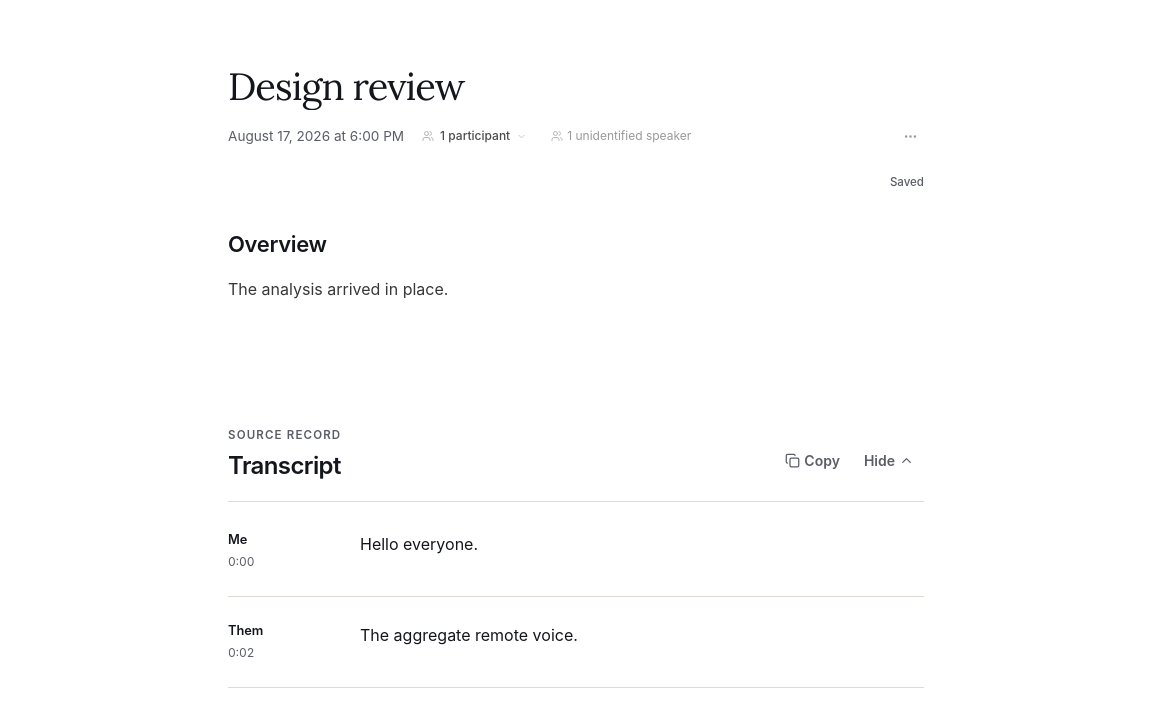
Test: MeetingView progressive reveal › opens identification for Them from the meeting transcript
Check: the button with id "meeting-header-speaker-review-trigger" reads "1 unidentified speaker", box [545,126,697,146]
Step 1. Click the text "Them" → point(246, 630), box [228,623,263,638]
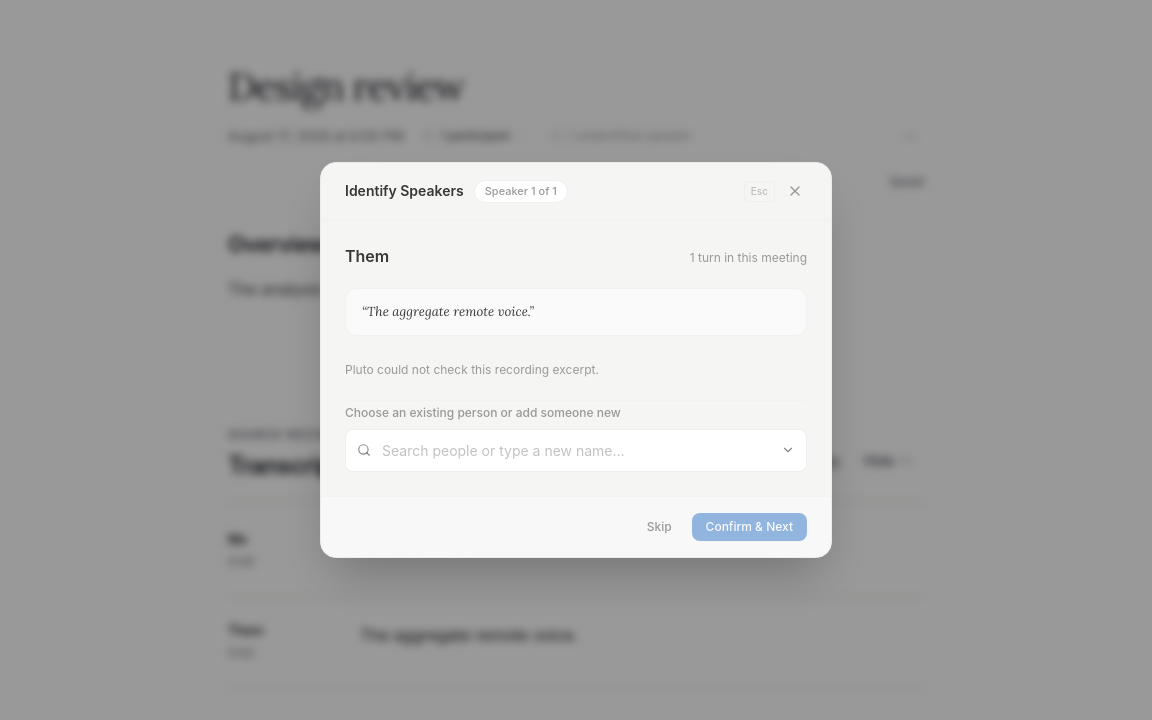
Check: the dialog is shown
Check: the text "Speaker 1 of 1" is shown, box [474,180,568,203]
Check: the dropdown named "Person for Them" is shown, box [345,429,807,472]
